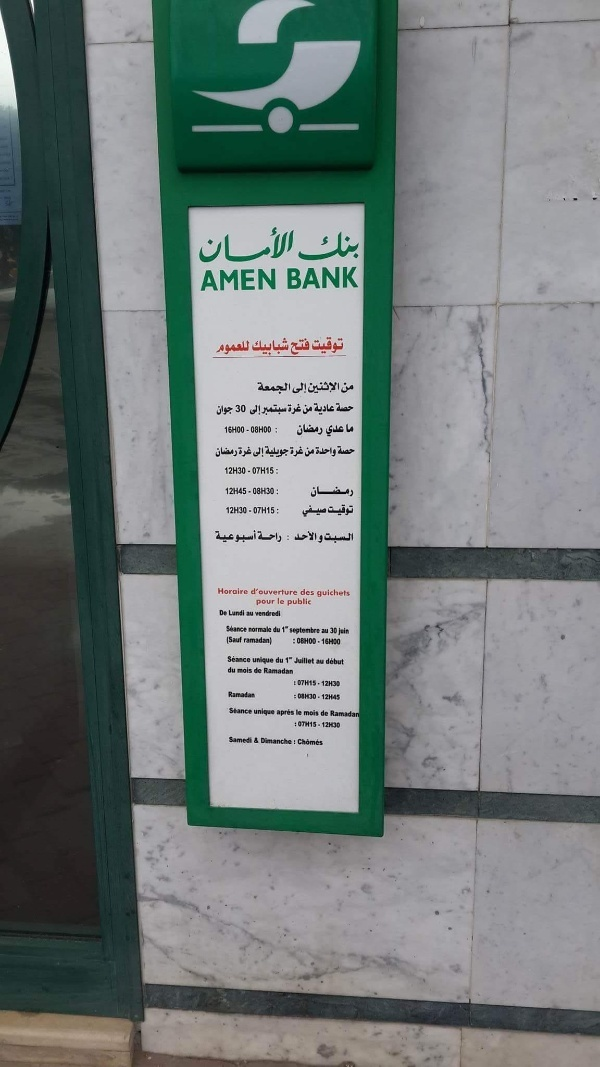text: (209, 226, 224, 267), (225, 226, 240, 267), (241, 226, 256, 267), (257, 226, 272, 267), (273, 226, 288, 267), (305, 230, 320, 263), (321, 230, 336, 263), (337, 230, 352, 263), (198, 226, 208, 267), (209, 267, 224, 293), (225, 267, 240, 293), (241, 267, 256, 293), (257, 267, 272, 293), (289, 265, 304, 290), (305, 265, 320, 290), (321, 265, 336, 290), (337, 265, 352, 290), (353, 230, 363, 263), (289, 226, 297, 267), (321, 337, 336, 355), (257, 338, 272, 356), (273, 338, 288, 356), (290, 338, 304, 356), (241, 529, 257, 544), (199, 267, 208, 293), (225, 340, 240, 355), (257, 381, 272, 396), (273, 381, 288, 396), (225, 529, 240, 544), (321, 381, 336, 395), (305, 504, 320, 518), (337, 531, 352, 545), (273, 404, 289, 417), (305, 424, 320, 437), (273, 446, 288, 459), (321, 486, 336, 499), (337, 486, 352, 499), (337, 504, 352, 517), (321, 403, 335, 416), (290, 445, 304, 458), (225, 446, 239, 459), (258, 530, 272, 543), (310, 337, 320, 355), (289, 404, 304, 416), (321, 447, 337, 458), (353, 265, 360, 290), (291, 381, 304, 394), (241, 445, 254, 458), (308, 381, 320, 395), (324, 531, 336, 545), (305, 530, 319, 542), (337, 445, 352, 456), (305, 626, 321, 636), (321, 589, 336, 599), (241, 340, 251, 355), (342, 380, 352, 395), (337, 403, 352, 413), (257, 506, 272, 516), (257, 625, 272, 635), (337, 337, 345, 355), (325, 425, 336, 438), (337, 589, 351, 599), (290, 626, 304, 636), (257, 426, 272, 435), (225, 425, 240, 434), (257, 467, 272, 476), (257, 487, 272, 496), (215, 529, 224, 544), (257, 588, 272, 597), (273, 588, 288, 597), (289, 598, 304, 607), (241, 691, 256, 700), (257, 637, 272, 646), (321, 637, 336, 646), (257, 656, 272, 665), (305, 738, 320, 747), (273, 737, 288, 746), (257, 708, 272, 717), (300, 230, 304, 263), (262, 404, 272, 417), (310, 486, 320, 499), (273, 530, 283, 543), (339, 627, 352, 637), (226, 487, 240, 496), (226, 636, 240, 645), (216, 340, 224, 355), (225, 467, 240, 475), (294, 530, 304, 542), (225, 588, 240, 596), (257, 610, 272, 618), (273, 626, 288, 634), (337, 710, 352, 718), (305, 709, 320, 717), (321, 680, 336, 688), (321, 693, 336, 701), (305, 403, 314, 416), (215, 446, 224, 459), (227, 506, 240, 515), (274, 426, 288, 434), (277, 708, 288, 718), (225, 405, 234, 417), (228, 691, 240, 700), (244, 637, 256, 646), (260, 737, 272, 746), (241, 666, 253, 675), (321, 722, 336, 729), (273, 668, 288, 675), (273, 267, 277, 293), (337, 425, 345, 438), (328, 504, 336, 517), (227, 625, 240, 633), (227, 656, 240, 664), (305, 720, 318, 728), (249, 404, 256, 418), (322, 628, 336, 635), (305, 637, 317, 645), (241, 736, 253, 744), (228, 707, 240, 715), (241, 707, 253, 715), (276, 656, 288, 664), (305, 692, 317, 700), (297, 424, 304, 437), (265, 446, 272, 459), (257, 446, 264, 459), (305, 338, 310, 356), (305, 448, 315, 457), (257, 600, 272, 606), (305, 589, 316, 597), (229, 610, 240, 618), (293, 637, 304, 645), (241, 656, 252, 664), (229, 736, 240, 744), (305, 657, 316, 665), (321, 504, 327, 518), (228, 667, 240, 674), (305, 680, 317, 687), (289, 588, 298, 597), (273, 506, 281, 516), (278, 598, 288, 606), (273, 610, 283, 618), (248, 625, 256, 635), (294, 657, 304, 665), (314, 403, 320, 416), (293, 680, 304, 687), (218, 405, 224, 417), (247, 611, 256, 619), (326, 659, 336, 666), (241, 404, 247, 415), (346, 423, 352, 434), (293, 740, 304, 746), (293, 694, 304, 700), (241, 588, 249, 596), (321, 709, 329, 717), (273, 467, 280, 476), (273, 487, 280, 496), (241, 506, 248, 515), (305, 598, 312, 607), (297, 738, 304, 747), (294, 722, 304, 728), (289, 708, 295, 718), (257, 404, 261, 418), (217, 588, 224, 596), (241, 625, 248, 633), (353, 710, 360, 718), (296, 709, 304, 716), (337, 659, 345, 666), (264, 668, 272, 675), (297, 692, 304, 700), (235, 404, 240, 415), (241, 487, 247, 496), (282, 626, 288, 635), (286, 265, 288, 290), (297, 680, 304, 687), (241, 467, 247, 475), (330, 627, 336, 635), (298, 720, 304, 728), (330, 710, 336, 718), (251, 426, 256, 435), (241, 425, 246, 434), (251, 588, 256, 597), (247, 469, 256, 474), (337, 637, 342, 646), (316, 447, 320, 458), (337, 381, 340, 395), (246, 428, 256, 432), (248, 509, 256, 514), (241, 610, 246, 618), (289, 656, 294, 664), (257, 667, 262, 675), (321, 424, 324, 437), (253, 446, 256, 459), (247, 490, 256, 494), (254, 338, 256, 356), (252, 467, 256, 476), (252, 656, 256, 665), (289, 737, 293, 746), (219, 610, 224, 617), (289, 668, 294, 675), (353, 445, 356, 456), (321, 534, 324, 545), (284, 656, 288, 664), (337, 680, 341, 688), (337, 693, 341, 701), (353, 380, 355, 395), (289, 381, 291, 396), (353, 531, 355, 545), (337, 722, 341, 729), (253, 487, 256, 496), (241, 636, 244, 645), (321, 738, 324, 747), (273, 708, 276, 717), (237, 666, 240, 675), (305, 381, 307, 394), (353, 486, 355, 499), (353, 504, 355, 517), (301, 589, 304, 597), (353, 423, 355, 434), (318, 534, 320, 545), (225, 610, 228, 617), (318, 589, 320, 599), (353, 403, 355, 413), (254, 506, 256, 516), (316, 660, 320, 665), (289, 338, 290, 356), (273, 600, 276, 606), (286, 598, 288, 607), (254, 708, 256, 717), (254, 667, 256, 675), (321, 660, 324, 665), (254, 737, 256, 744), (257, 737, 259, 744), (303, 403, 304, 416), (305, 445, 306, 458), (289, 446, 290, 459), (239, 445, 240, 458), (286, 535, 288, 541), (317, 682, 320, 686), (317, 696, 320, 700), (289, 626, 290, 635), (273, 656, 274, 665), (255, 610, 256, 618), (318, 640, 320, 644), (337, 627, 338, 635), (318, 723, 320, 727), (303, 709, 304, 717), (289, 535, 290, 541)
